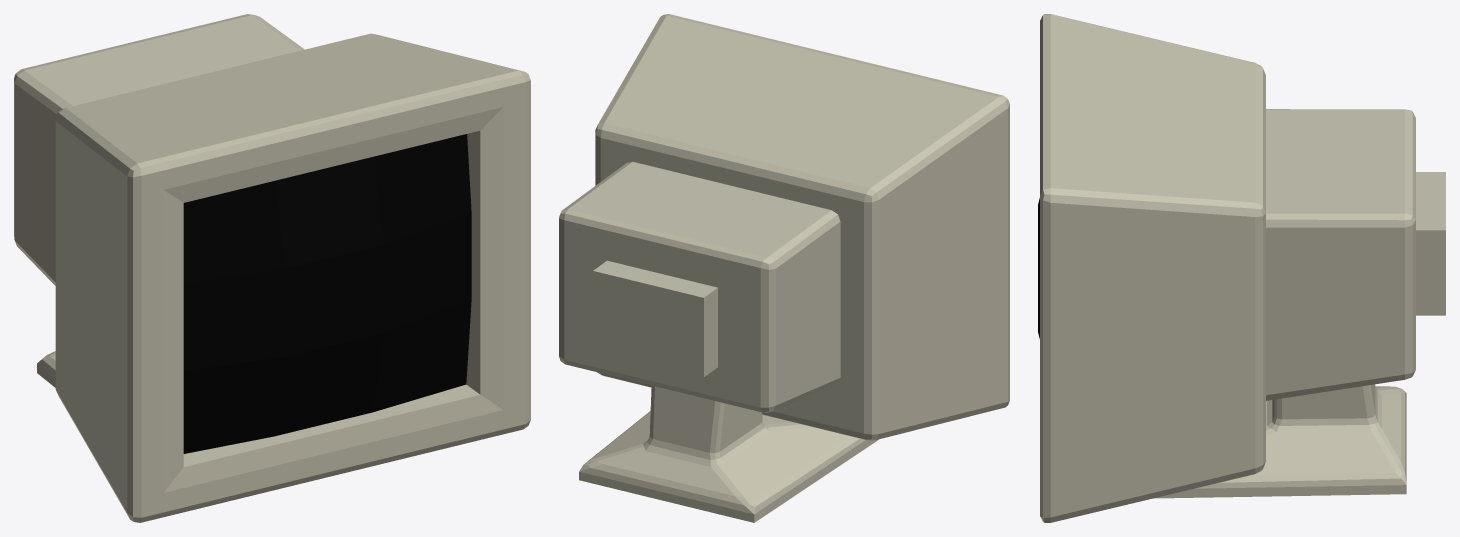
File: GameAsset_PC_Screen_v01.fbx
3 renders of one model, left to right at view 1: azimuth 30°, elevation 25°; view 2: azimuth 150°, elevation 25°; view 3: azimuth 270°, elevation 25°, orthographic. The views are drawn at different scales.
Parts seen in each view (by area): view 1: PC.001; view 2: PC.001; view 3: PC.001.
Boxes of the visible parts, left/top/right/bottom form: PC.001: left=14, top=14, right=530, bottom=522; PC.001: left=559, top=14, right=1009, bottom=522; PC.001: left=1038, top=14, right=1445, bottom=522.
Bounding box in the file's own units: 58.18 × 51.37 × 54.7.
